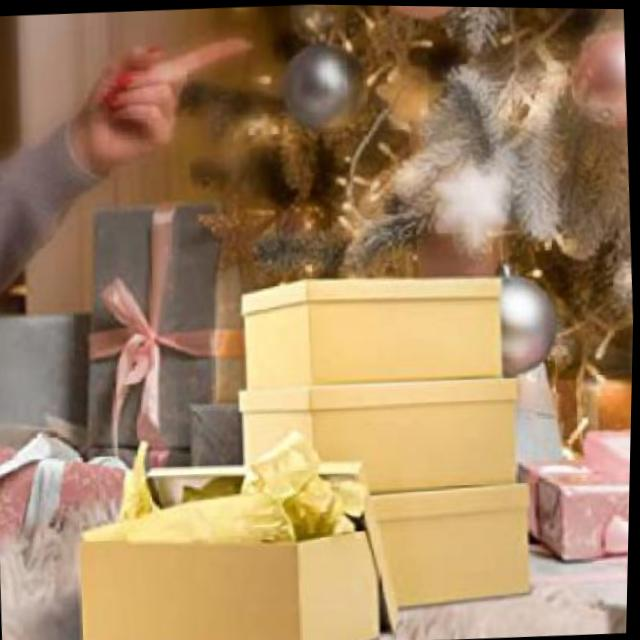box: (72, 483, 389, 640), (230, 257, 533, 395), (232, 365, 527, 489), (349, 474, 557, 613)
